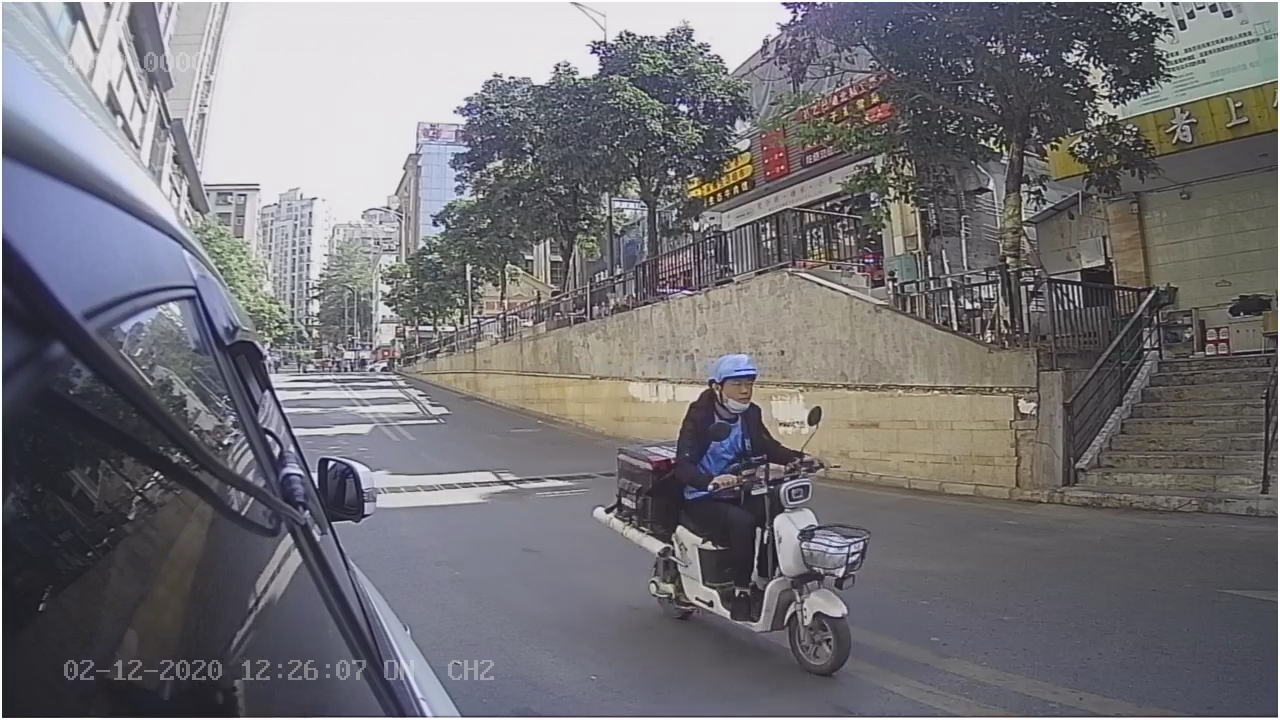person: (673, 346, 783, 486)
